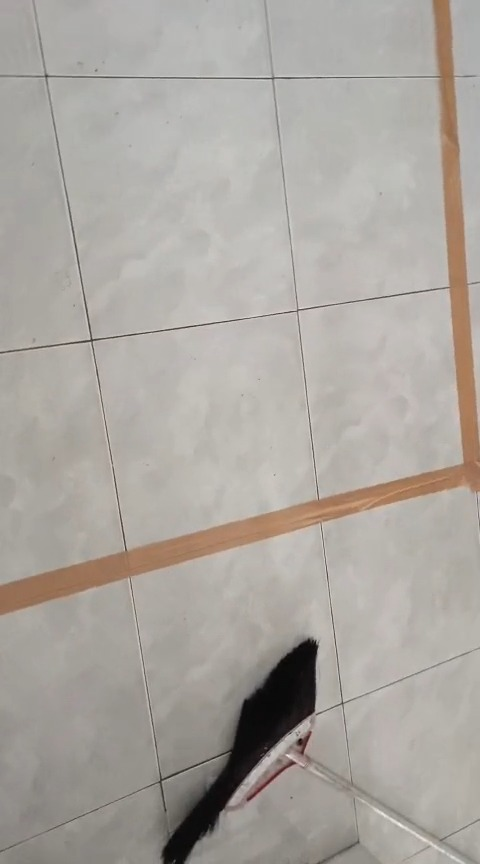floor marking: (0, 0, 479, 614)
